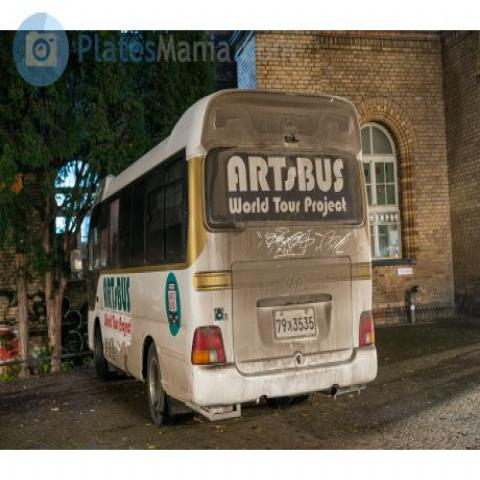LP: (267, 296, 324, 346)
